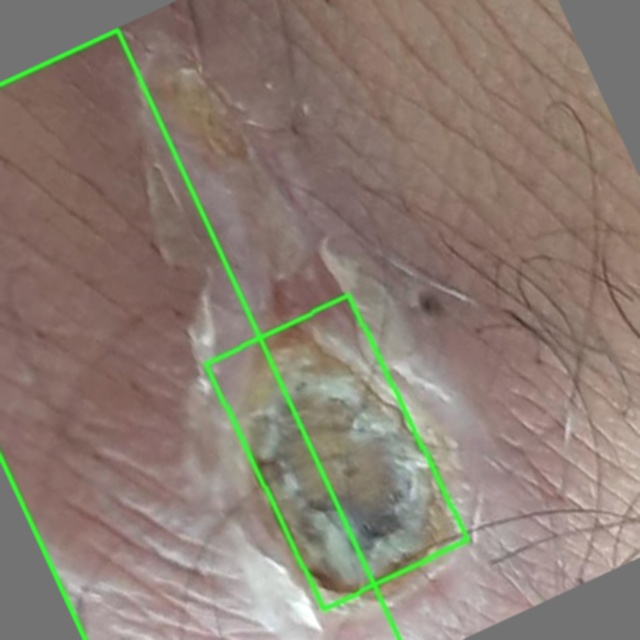Contact Dermatitis: (0, 29, 398, 639), (205, 295, 467, 609)
